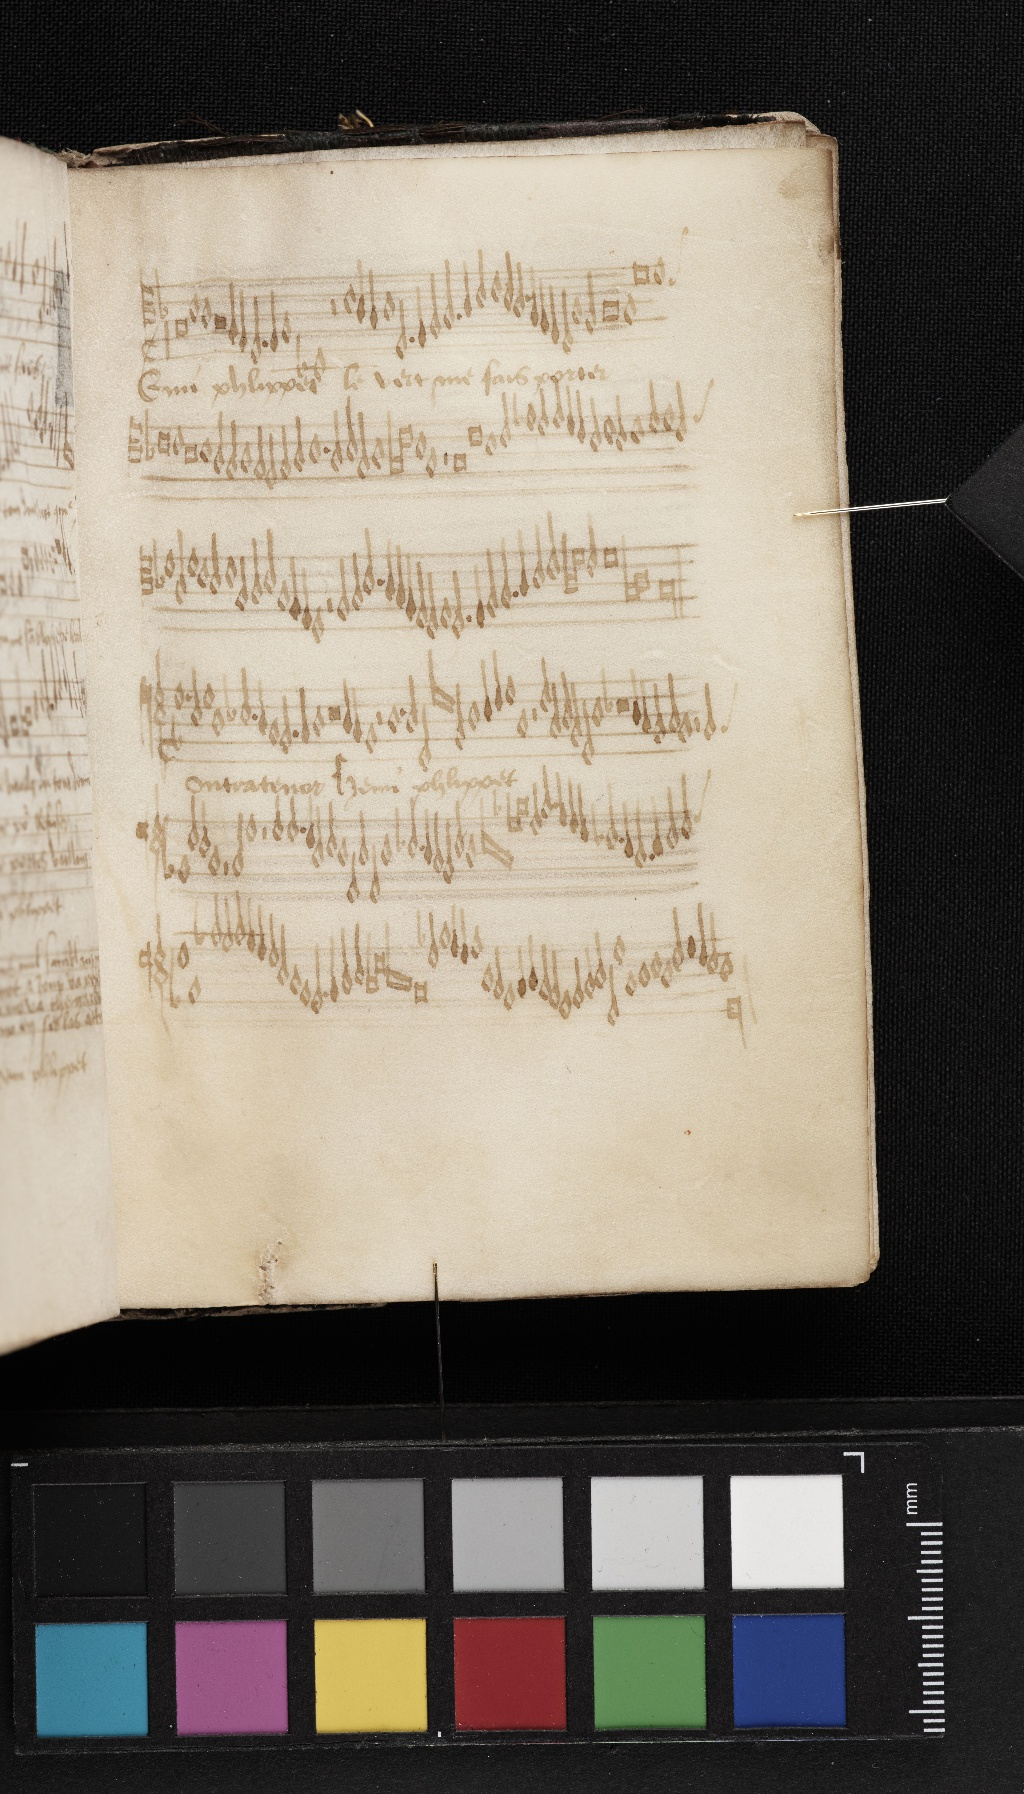otherpage: (1, 131, 85, 1368)
staff: (136, 904, 753, 1035), (136, 774, 729, 904), (124, 639, 729, 766), (136, 267, 711, 379), (129, 389, 705, 501), (140, 522, 715, 635)
